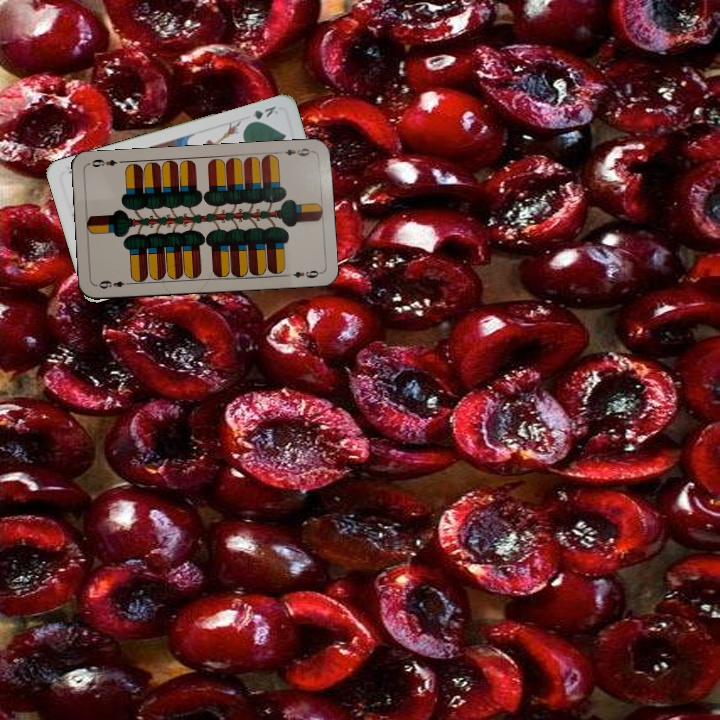E9: (274, 144, 315, 159), (95, 276, 134, 291)
GK: (243, 102, 280, 126)
